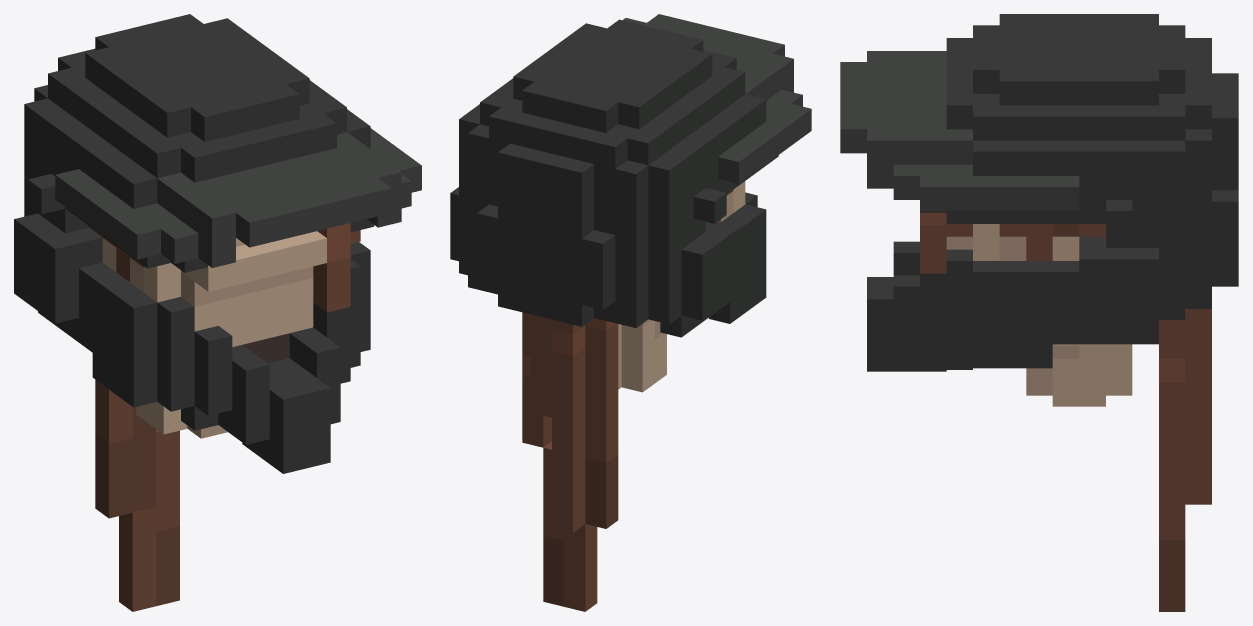
File: Head_ReheadPony_Headset_Mesh.fbx
3 views of the same model, side by side, from view 1: azimuth 30°, elevation 25°; view 2: azimuth 150°, elevation 25°; view 3: azimuth 270°, elevation 25° (orthographic). The views are drawn at different scales.
Parts seen in each view (by area): view 1: Head_ReheadPony_Headset_Mesh; view 2: Head_ReheadPony_Headset_Mesh; view 3: Head_ReheadPony_Headset_Mesh.
Part boxes in pixels (x1,y1,x2,y2): Head_ReheadPony_Headset_Mesh: (14, 14, 421, 611); Head_ReheadPony_Headset_Mesh: (450, 14, 811, 611); Head_ReheadPony_Headset_Mesh: (840, 14, 1238, 611).
Size of the model in its own units: 1.2 by 2.3 by 1.5.
1 material, 1 textured.
